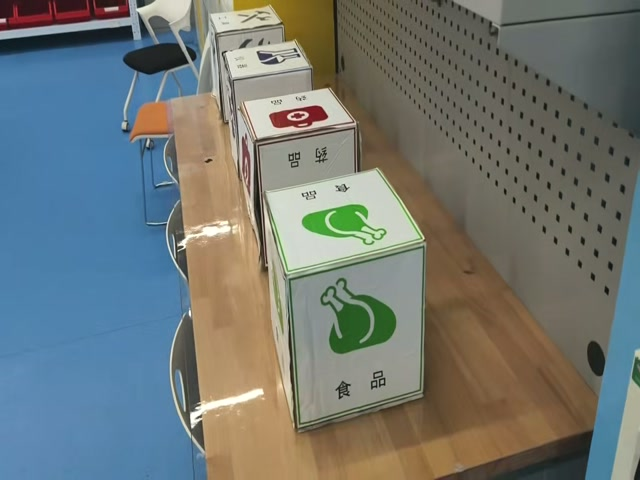Cube_food: (256, 169, 424, 283)
Cube_ins: (223, 42, 308, 79)
Cube_medicine: (234, 88, 356, 146)
Cube_tool: (207, 5, 286, 33)
